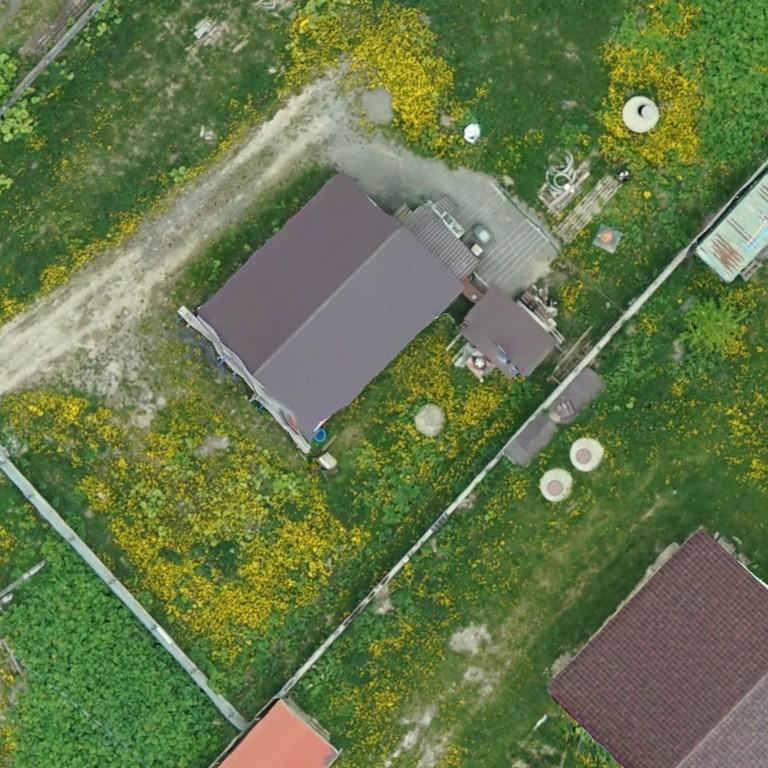hogweed: (4, 541, 232, 767), (681, 0, 767, 169)
